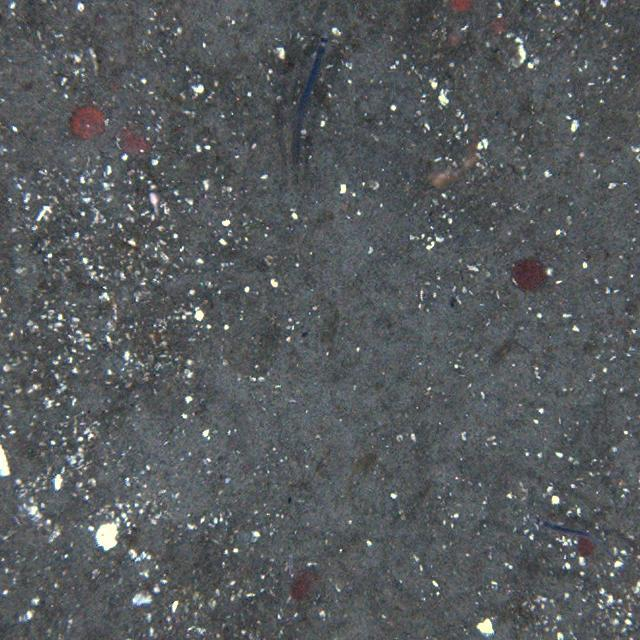roundfish: (290, 30, 330, 164)
